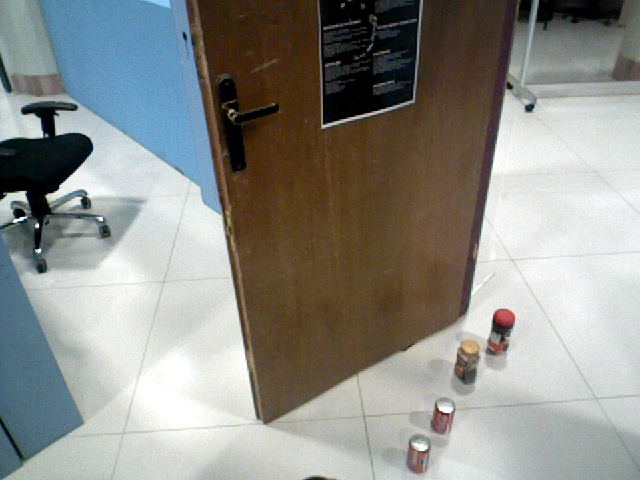coca: (430, 398, 456, 437)
coffee: (454, 339, 480, 385)
cream: (488, 307, 511, 357)
door_handle: (207, 69, 281, 173)
fanta: (403, 435, 431, 474)
